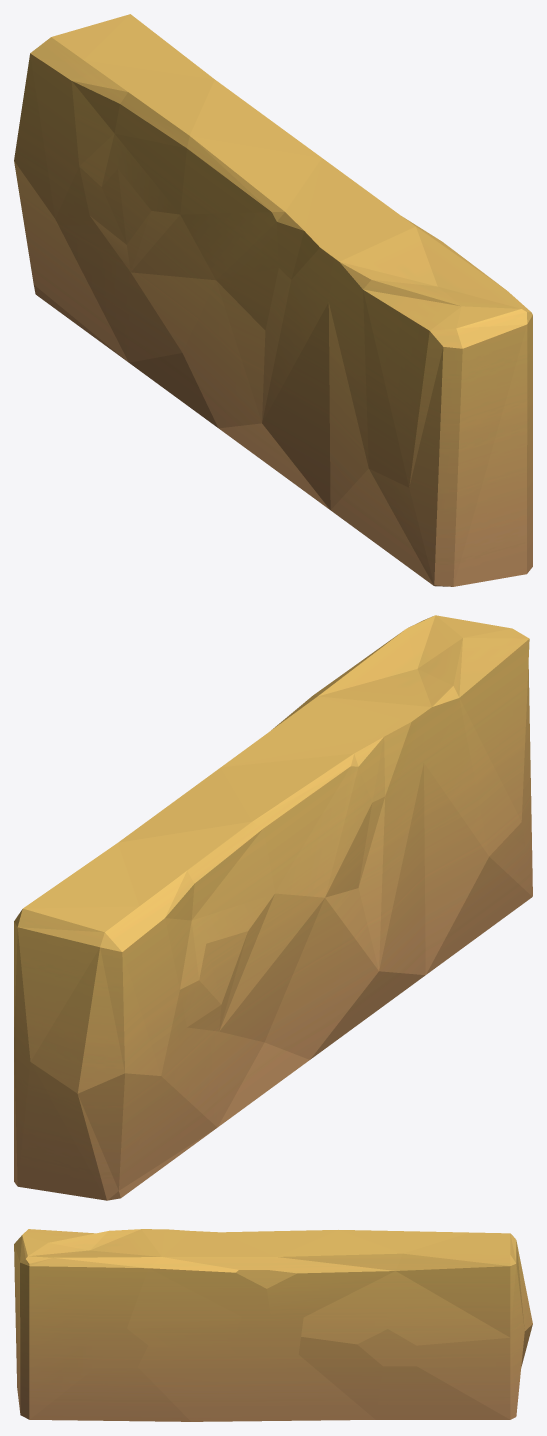
The picture shows the model from 3 angles, top to bottom: view 1: azimuth 30°, elevation 25°; view 2: azimuth 150°, elevation 25°; view 3: azimuth 270°, elevation 25°; orthographic projection. The views are drawn at different scales.
Visible parts, largest first — view 1: OldWall1; view 2: OldWall1; view 3: OldWall1.
Boxes of the visible parts, box(x1,y1,x2,y2) form: OldWall1: box(14, 14, 532, 586); OldWall1: box(14, 615, 532, 1200); OldWall1: box(14, 1229, 532, 1421).
Bounding box in the file's own units: 33.95 × 69.4 × 200.
1 material, 1 textured.
